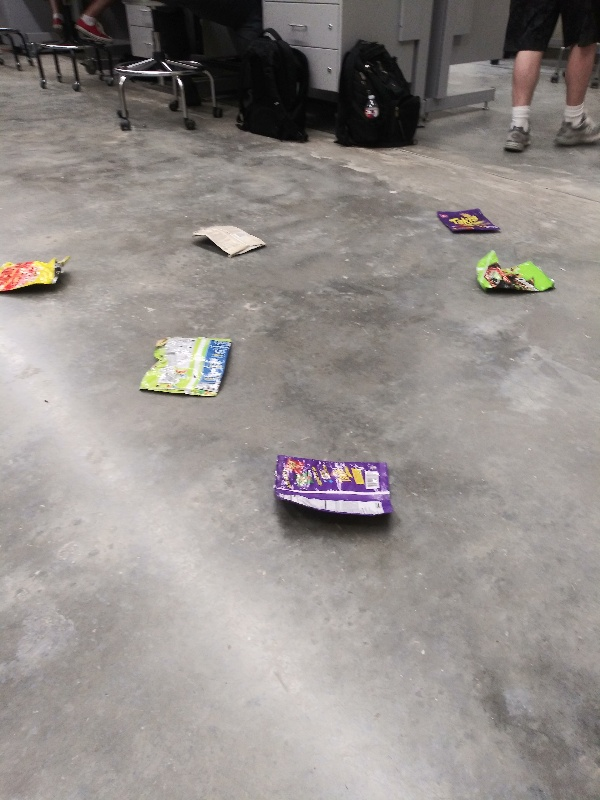bag: (268, 449, 399, 535), (136, 330, 237, 402), (469, 243, 563, 300), (1, 247, 76, 299), (187, 220, 274, 260), (433, 205, 505, 238)
bottle: (361, 89, 382, 120)
